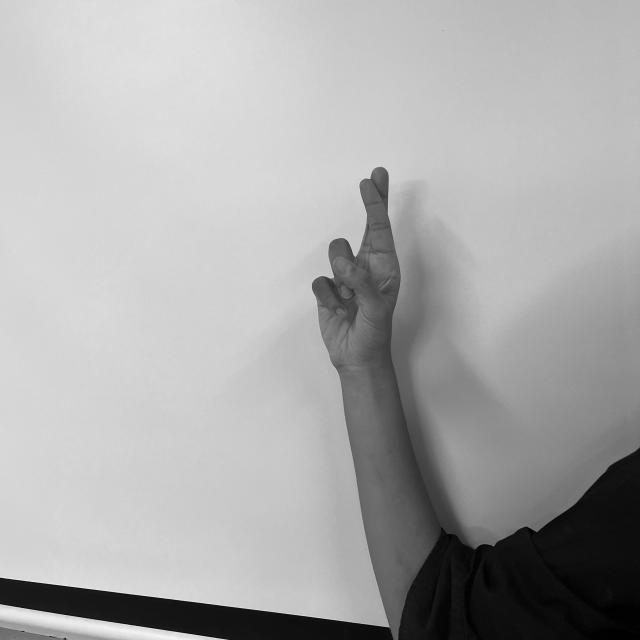Letra R: (307, 160, 405, 366)
